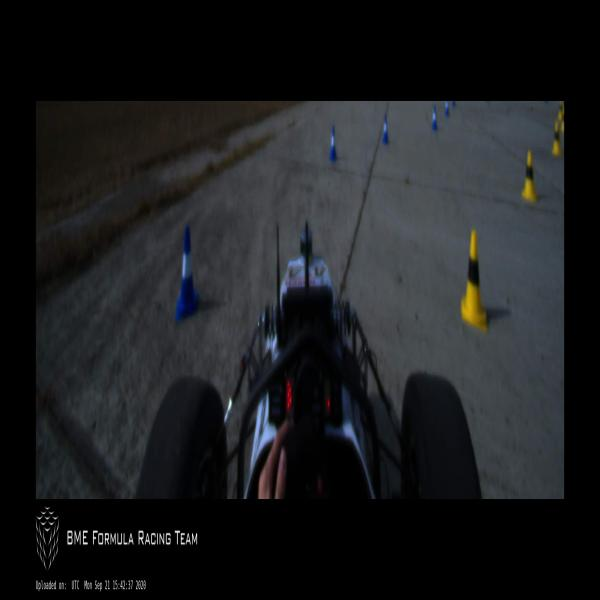blue_cone: (175, 225, 199, 323), (329, 125, 337, 162), (383, 115, 389, 146), (432, 106, 438, 132), (444, 101, 450, 117)
yellow_cone: (461, 230, 488, 332), (521, 150, 539, 202), (551, 120, 562, 156), (558, 101, 564, 120), (560, 110, 564, 131)
